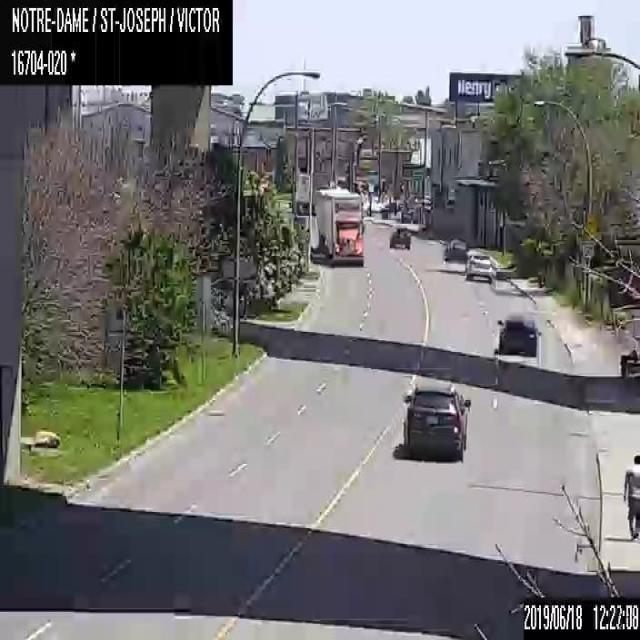construction: (605, 236, 639, 384)
pedestrian: (622, 452, 639, 539)
vehicle: (402, 381, 471, 460), (315, 188, 363, 265), (496, 313, 541, 356), (464, 254, 492, 281), (443, 238, 466, 262), (389, 224, 410, 248)
